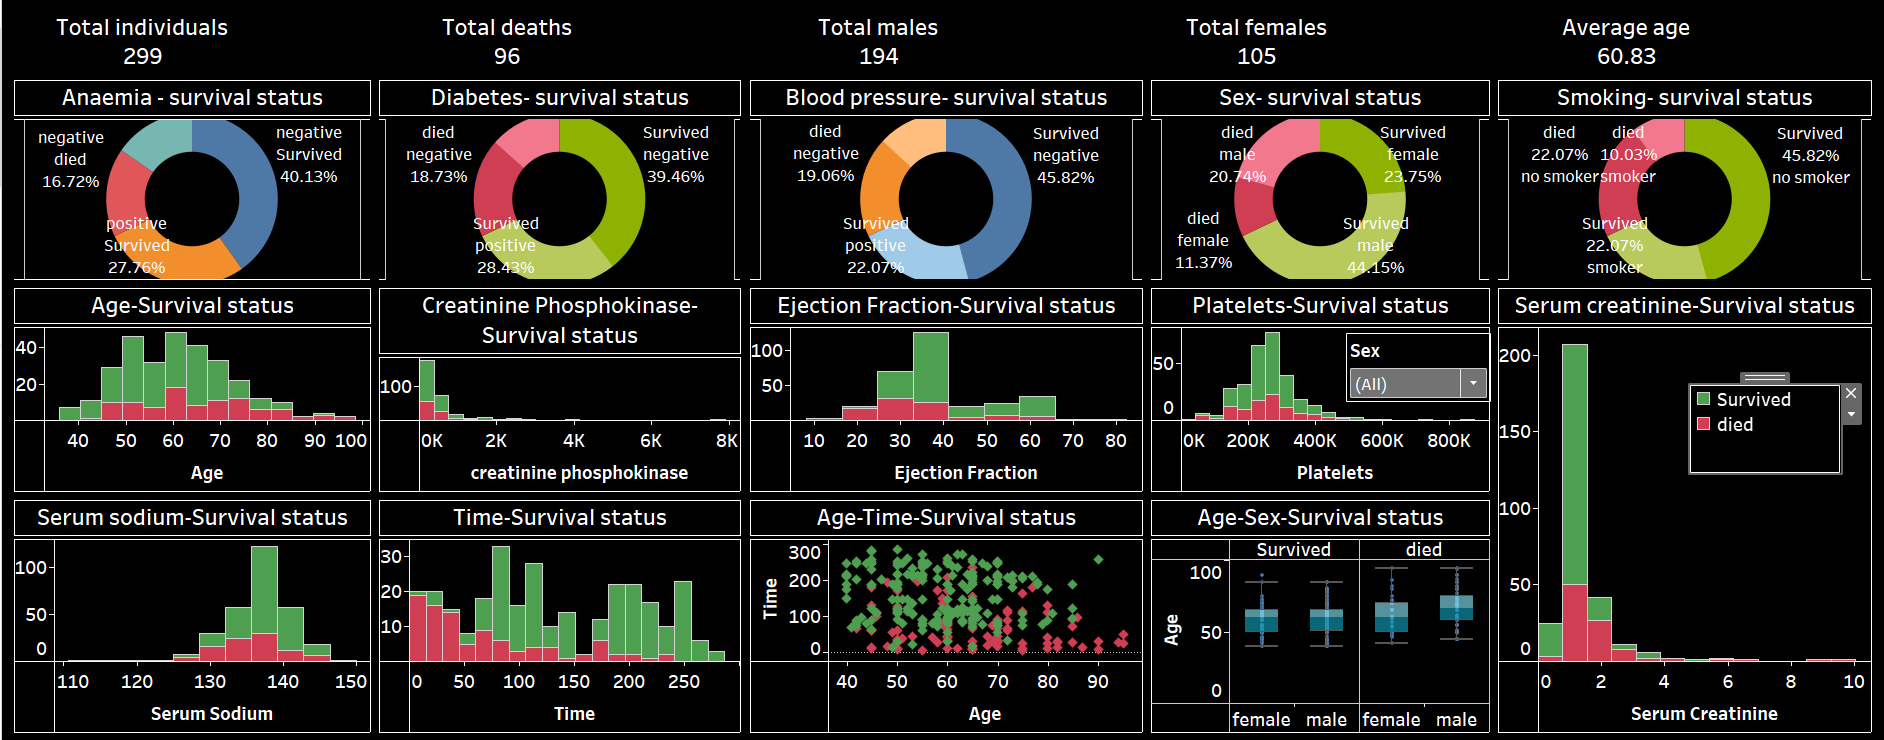

The dashboard page shown, as its layout file describes it:
{"tool":"tableau","page":{"name":"Dashboard 1","canvas":[1000,1000],"units":"permille","ordinal":0},"visuals":[{"type":"worksheet","title":"Sheet 15","mark":"Automatic","box":[5,10.7,193.9,92.5]},{"type":"worksheet","title":"Sheet 15 (2)","mark":"Automatic","box":[198.8,10.7,196.9,92.5]},{"type":"worksheet","title":"Sheet 15 (3)","mark":"Automatic","box":[395.7,10.7,200.4,92.5]},{"type":"worksheet","title":"Sheet 15 (4)","mark":"Automatic","box":[596.1,10.7,196.2,92.5]},{"type":"worksheet","title":"Sheet 15 (5)","mark":"Automatic","box":[792.3,10.7,202.7,92.5]},{"type":"worksheet","title":"Sheet 1","mark":"Pie","rows":["Calculation_145241129375887361","Calculation_145241129375887361"],"box":[5,103.2,193.8,278.8]},{"type":"worksheet","title":"Sheet 1 (2)","mark":"Pie","rows":["Calculation_145241129375887361","Calculation_145241129375887361"],"box":[198.8,103.2,196.6,278.8]},{"type":"worksheet","title":"Sheet 1 (3)","mark":"Pie","rows":["Calculation_145241129375887361","Calculation_145241129375887361"],"box":[395.4,103.2,212.7,278.8]},{"type":"worksheet","title":"Sheet 1 (4)","mark":"Pie","rows":["Calculation_145241129375887361","Calculation_145241129375887361"],"box":[608.1,103.2,184.3,278.8]},{"type":"worksheet","title":"Sheet 1 (5)","mark":"Pie","rows":["Calculation_145241129375887361","Calculation_145241129375887361"],"box":[792.3,103.2,202.7,278.8]},{"type":"worksheet","title":"Sheet 6","mark":"Automatic","rows":["age"],"cols":["Age (bin)"],"box":[5,382,193.8,284.2]},{"type":"worksheet","title":"Sheet 6 (2)","mark":"Automatic","rows":["creatinine_phosphokinase"],"cols":["Creatinine Phosphokinase (bin)"],"box":[198.8,382,196.6,284.2]},{"type":"worksheet","title":"Sheet 6 (3)","mark":"Automatic","rows":["ejection_fraction"],"cols":["Ejection Fraction (bin)"],"box":[395.4,382,212.7,284.2]},{"type":"worksheet","title":"Sheet 6 (4)","mark":"Automatic","rows":["platelets"],"cols":["Platelets (bin)"],"box":[608.1,382,184.3,284.2]},{"type":"worksheet","title":"Sheet 6 (5)","mark":"Automatic","rows":["serum_creatinine"],"cols":["Serum Creatinine (bin)"],"box":[792.3,382,202.7,607.2]},{"type":"filter","title":"Sheet 6 (9)","param":"[federated.123pj0212hy1381gqqb1m0lqewan].[none:sex:ok]","box":[714.3,447.7,77.2,92.5]},{"type":"legend","title":"Sheet 6","param":"[federated.123pj0212hy1381gqqb1m0lqewan].[none:DEATH_EVENT:ok]","box":[897,517.4,80,118]},{"type":"worksheet","title":"Sheet 6 (6)","mark":"Automatic","rows":["serum_sodium"],"cols":["Serum Sodium (bin)"],"box":[5,666.2,193.8,323.1]},{"type":"worksheet","title":"Sheet 6 (7)","mark":"Automatic","rows":["time"],"cols":["Time (bin)"],"box":[198.8,666.2,196.6,323.1]},{"type":"worksheet","title":"Sheet 6 (8)","mark":"Automatic","rows":["time"],"cols":["age"],"box":[395.4,666.2,212.7,323.1]},{"type":"worksheet","title":"Sheet 6 (9)","mark":"Circle","rows":["age"],"cols":["DEATH_EVENT","sex"],"box":[608.1,666.2,184.3,323.1]}]}

Visuals, with their boxes on the dashboard's canvas, which has no fixed pixel size, in thousandths of its width and height (x1, y1, x2, y2). These are canvas units, not pixel positions in the 1884x740 screenshot, which may show the page scaled, cropped or inside an application window:
"Sheet 15" worksheet: (5, 11, 199, 103)
"Sheet 15 (2)" worksheet: (199, 11, 396, 103)
"Sheet 15 (3)" worksheet: (396, 11, 596, 103)
"Sheet 15 (4)" worksheet: (596, 11, 792, 103)
"Sheet 15 (5)" worksheet: (792, 11, 995, 103)
"Sheet 1" worksheet (Pie marks): (5, 103, 199, 382)
"Sheet 1 (2)" worksheet (Pie marks): (199, 103, 395, 382)
"Sheet 1 (3)" worksheet (Pie marks): (395, 103, 608, 382)
"Sheet 1 (4)" worksheet (Pie marks): (608, 103, 792, 382)
"Sheet 1 (5)" worksheet (Pie marks): (792, 103, 995, 382)
"Sheet 6" worksheet: (5, 382, 199, 666)
"Sheet 6 (2)" worksheet: (199, 382, 395, 666)
"Sheet 6 (3)" worksheet: (395, 382, 608, 666)
"Sheet 6 (4)" worksheet: (608, 382, 792, 666)
"Sheet 6 (5)" worksheet: (792, 382, 995, 989)
"Sheet 6 (9)" filter: (714, 448, 792, 540)
"Sheet 6" legend: (897, 517, 977, 635)
"Sheet 6 (6)" worksheet: (5, 666, 199, 989)
"Sheet 6 (7)" worksheet: (199, 666, 395, 989)
"Sheet 6 (8)" worksheet: (395, 666, 608, 989)
"Sheet 6 (9)" worksheet (Circle marks): (608, 666, 792, 989)
